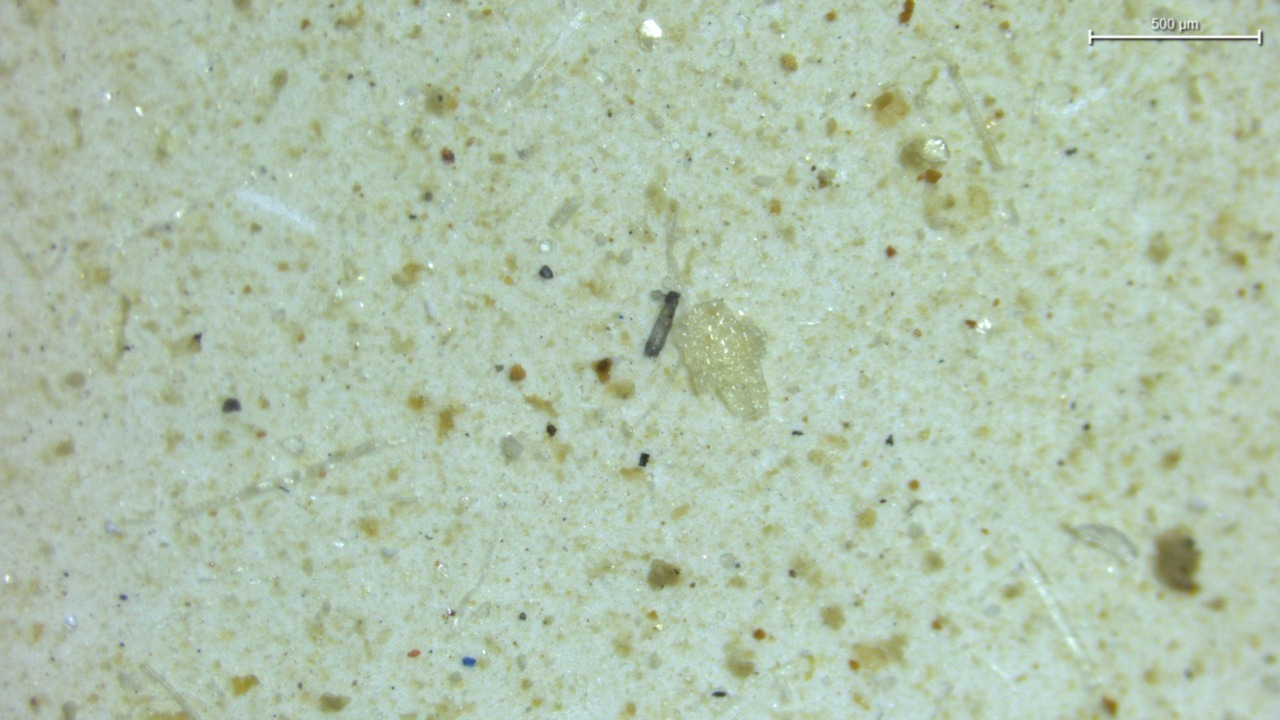microplastic_fragment: (672, 300, 769, 419), (917, 137, 948, 163), (500, 435, 524, 460)
